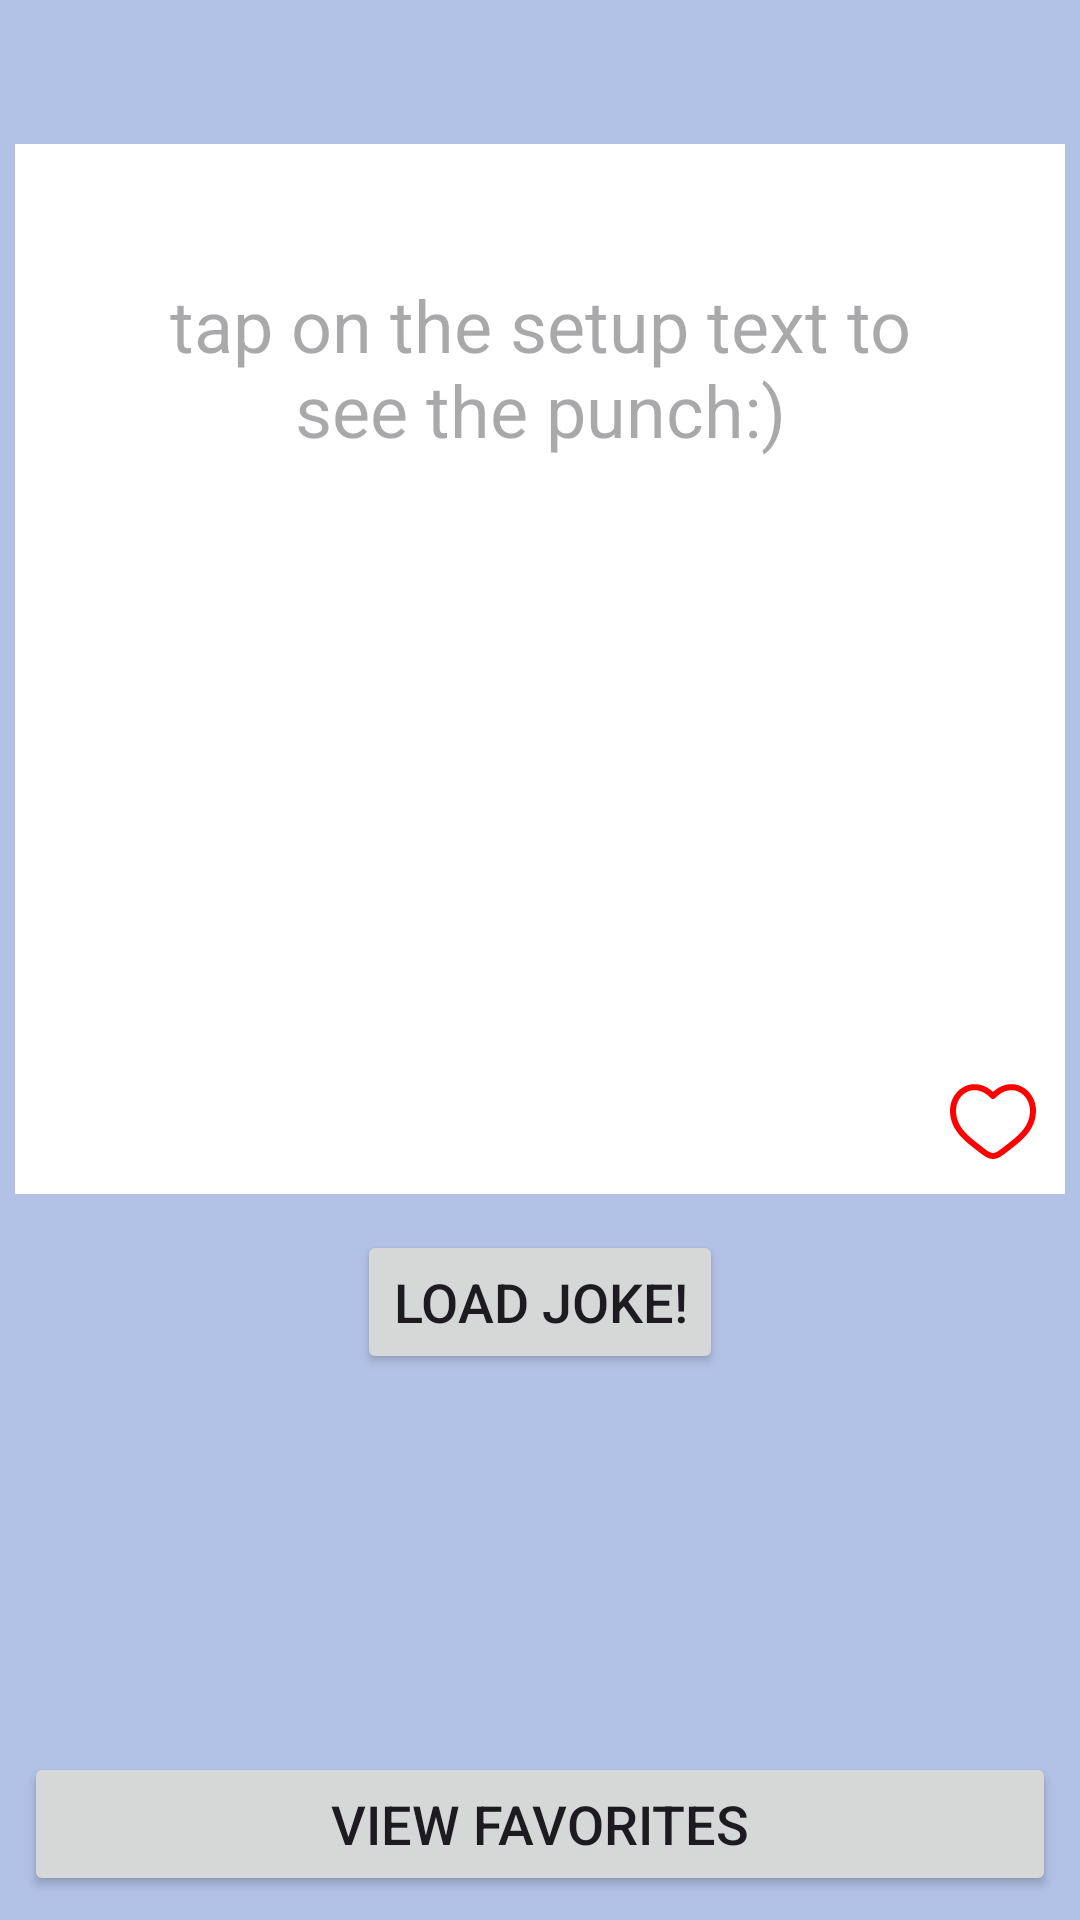

Named icons in this screenshot (1080*1920) and their centers, point (x, y):
add to or remove from favorites: point (993, 1121)
